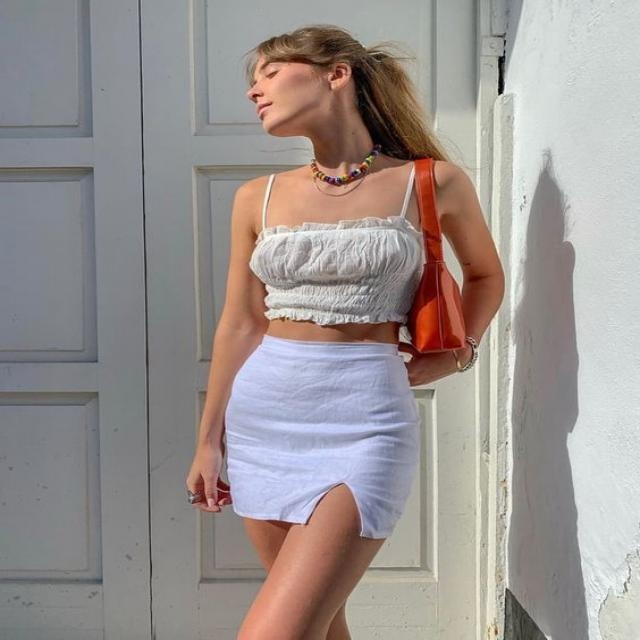Crop_Top: (250, 229, 426, 345)
Miniskirt: (223, 332, 422, 640)
Sleeveless: (414, 159, 482, 217), (231, 176, 268, 229)
low_neckline: (251, 159, 416, 320)
